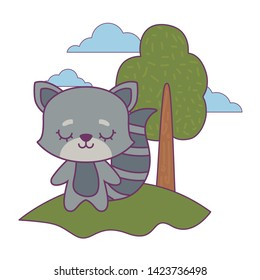animal: (30, 74, 156, 207)
cloud: (63, 22, 140, 54), (204, 87, 244, 115), (47, 66, 97, 85)
tree: (119, 21, 205, 206)
